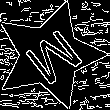M_SE: (14, 21, 85, 89)
